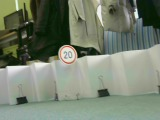speed_20: (57, 44, 76, 64)
